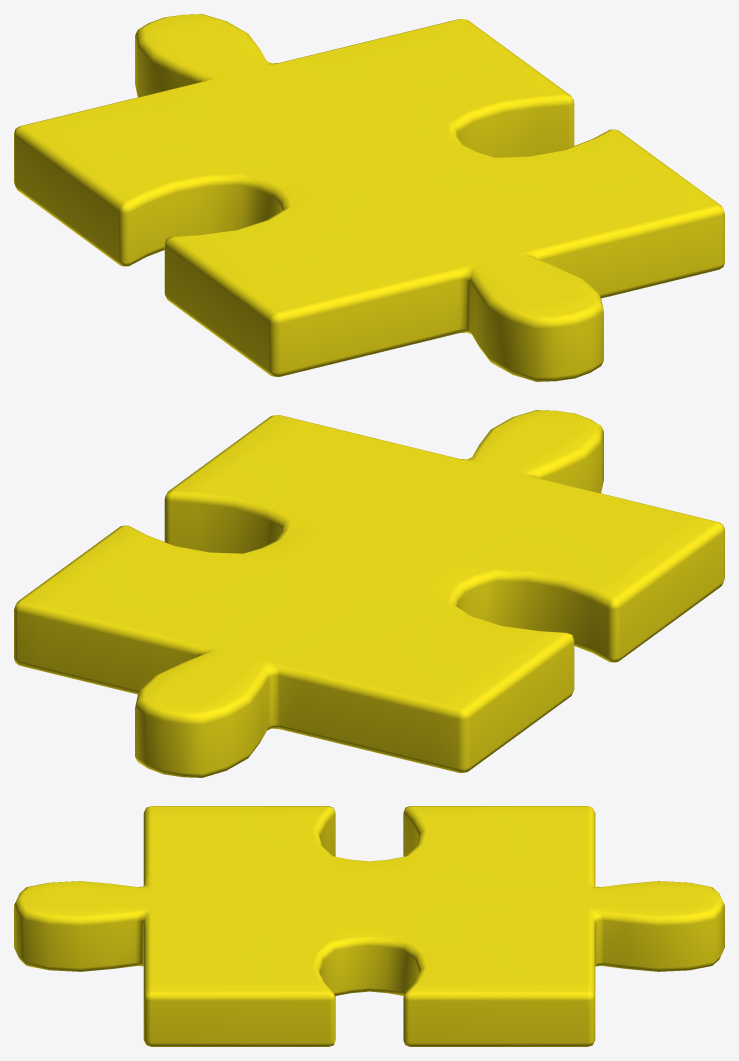
File: Store_9_Puzzle_1.glb
The picture shows the model from 3 angles, top to bottom: view 1: azimuth 30°, elevation 25°; view 2: azimuth 150°, elevation 25°; view 3: azimuth 270°, elevation 25°; orthographic projection. The views are drawn at different scales.
Visible parts, largest first — view 1: Store_9_Puzzle_1; view 2: Store_9_Puzzle_1; view 3: Store_9_Puzzle_1.
Part boxes in pixels (x1,y1,x2,y2): Store_9_Puzzle_1: [14, 14, 724, 381]; Store_9_Puzzle_1: [14, 410, 724, 777]; Store_9_Puzzle_1: [14, 806, 724, 1046].
Size of the model in its own units: 1.31 by 0.1778 by 2.06.
Materials: 1 (1 with a texture image).
